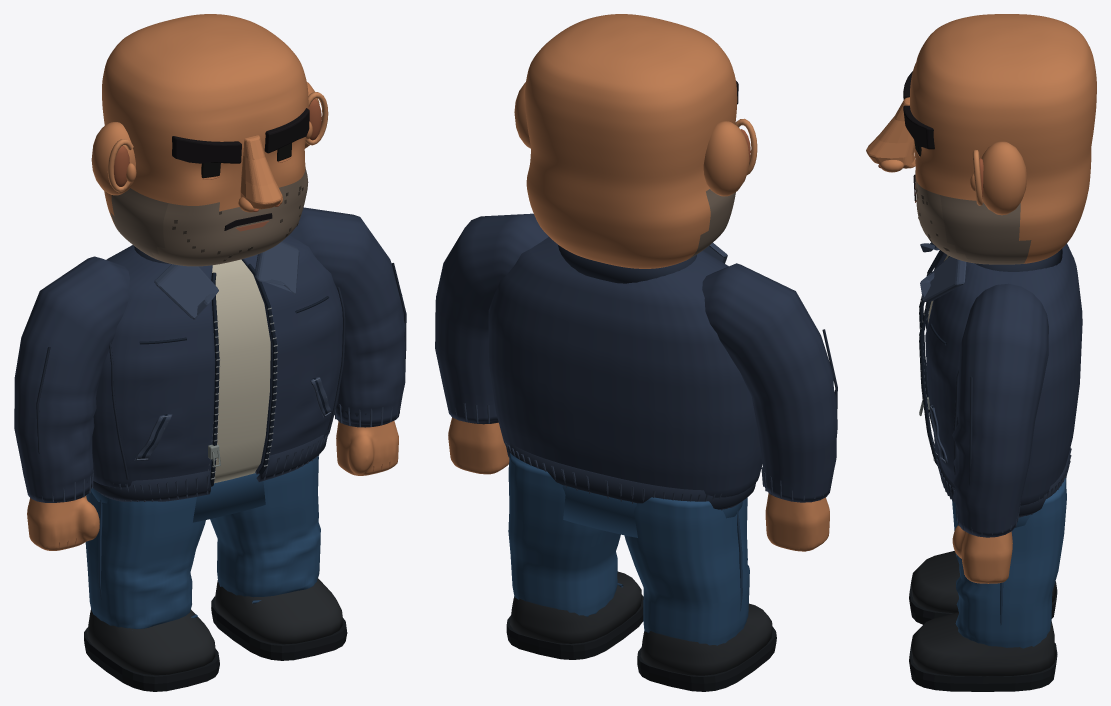
File: actor-detail-study-04.glb
3 renders of one model, left to right at view 1: azimuth 30°, elevation 25°; view 2: azimuth 150°, elevation 25°; view 3: azimuth 270°, elevation 25°, orthographic. The views are drawn at different scales.
Parts seen in each view (by area): view 1: Continuous rounded skull and jaw, Open padded bomber shell, Left padded sleeve, Right padded sleeve, Left shaped trouser leg, Right shaped trouser leg, Full cotton torso, Left leather shoe, Right leather shoe, Bomber knitted hem, Left sculpted hand, Right sculpted hand (+12 smaller); view 2: Open padded bomber shell, Continuous rounded skull and jaw, Left padded sleeve, Left shaped trouser leg, Right padded sleeve, Right shaped trouser leg, Left leather shoe, Right leather shoe, Bomber knitted hem, Left sculpted hand, Denim hips, Right sculpted hand (+5 smaller); view 3: Continuous rounded skull and jaw, Right padded sleeve, Open padded bomber shell, Right shaped trouser leg, Right leather shoe, Right ear, Right sculpted hand, Right shoe sole, Left leather shoe, Sculpted nose bridge and tip, Folded bomber collar 1, Zip edge 1 (+6 smaller).
Boxes of the visible parts, x1=… form: Continuous rounded skull and jaw: x1=102, y1=14, x2=308, y2=266; Open padded bomber shell: x1=92, y1=235, x2=342, y2=487; Left padded sleeve: x1=14, y1=256, x2=129, y2=502; Right padded sleeve: x1=289, y1=207, x2=406, y2=424; Left shaped trouser leg: x1=85, y1=490, x2=205, y2=629; Right shaped trouser leg: x1=210, y1=456, x2=320, y2=597; Full cotton torso: x1=212, y1=259, x2=270, y2=483; Left leather shoe: x1=87, y1=609, x2=215, y2=675; Right leather shoe: x1=214, y1=578, x2=342, y2=644; Bomber knitted hem: x1=93, y1=435, x2=327, y2=501; Left sculpted hand: x1=27, y1=496, x2=99, y2=550; Right sculpted hand: x1=336, y1=421, x2=398, y2=475; Open padded bomber shell: x1=488, y1=237, x2=762, y2=497; Continuous rounded skull and jaw: x1=525, y1=14, x2=737, y2=268; Left padded sleeve: x1=702, y1=263, x2=837, y2=502; Left shaped trouser leg: x1=624, y1=497, x2=749, y2=645; Right padded sleeve: x1=435, y1=213, x2=548, y2=422; Right shaped trouser leg: x1=508, y1=453, x2=620, y2=616; Left leather shoe: x1=640, y1=603, x2=772, y2=675; Right leather shoe: x1=510, y1=571, x2=641, y2=643; Bomber knitted hem: x1=506, y1=443, x2=755, y2=509; Left sculpted hand: x1=765, y1=493, x2=829, y2=551; Denim hips: x1=562, y1=485, x2=742, y2=537; Right sculpted hand: x1=448, y1=417, x2=509, y2=474; Continuous rounded skull and jaw: x1=910, y1=14, x2=1096, y2=264; Right padded sleeve: x1=952, y1=283, x2=1048, y2=537; Open padded bomber shell: x1=925, y1=243, x2=1082, y2=505; Right shaped trouser leg: x1=952, y1=478, x2=1066, y2=648; Right leather shoe: x1=911, y1=612, x2=1056, y2=676; Right ear: x1=981, y1=141, x2=1027, y2=215; Right sculpted hand: x1=952, y1=525, x2=1012, y2=583; Right shoe sole: x1=909, y1=643, x2=1057, y2=691; Left leather shoe: x1=911, y1=551, x2=1056, y2=613; Sculpted nose bridge and tip: x1=866, y1=97, x2=915, y2=168; Folded bomber collar 1: x1=920, y1=256, x2=966, y2=301; Zip edge 1: x1=919, y1=256, x2=949, y2=465.
Size of the model in its own units: 3.02 by 4.52 by 1.56.
